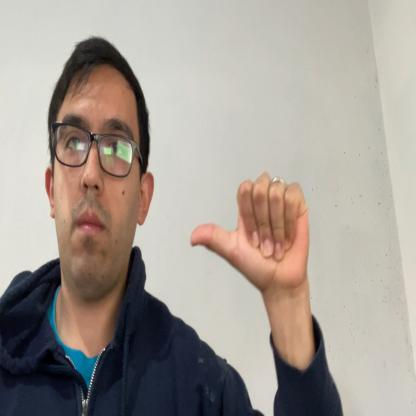A: (191, 172, 310, 293)
